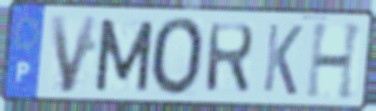H: (303, 21, 367, 102)
K: (260, 21, 305, 99)
M: (92, 17, 157, 95)
O: (150, 15, 208, 99)
R: (203, 21, 257, 97)
V: (47, 13, 101, 96)
